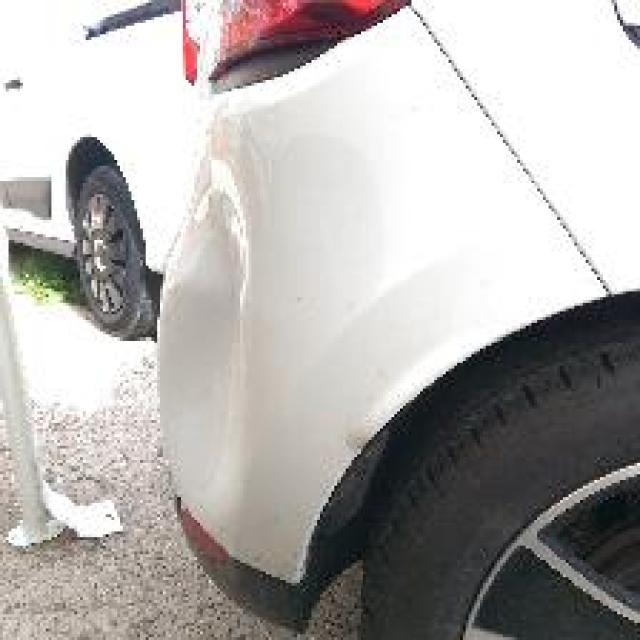bumper_dent_moderate: (160, 189, 246, 497)
